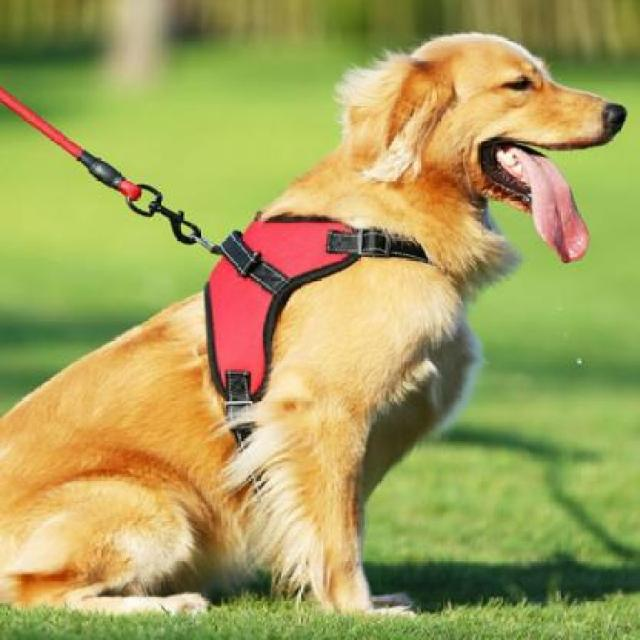Dog: (0, 31, 628, 620)
